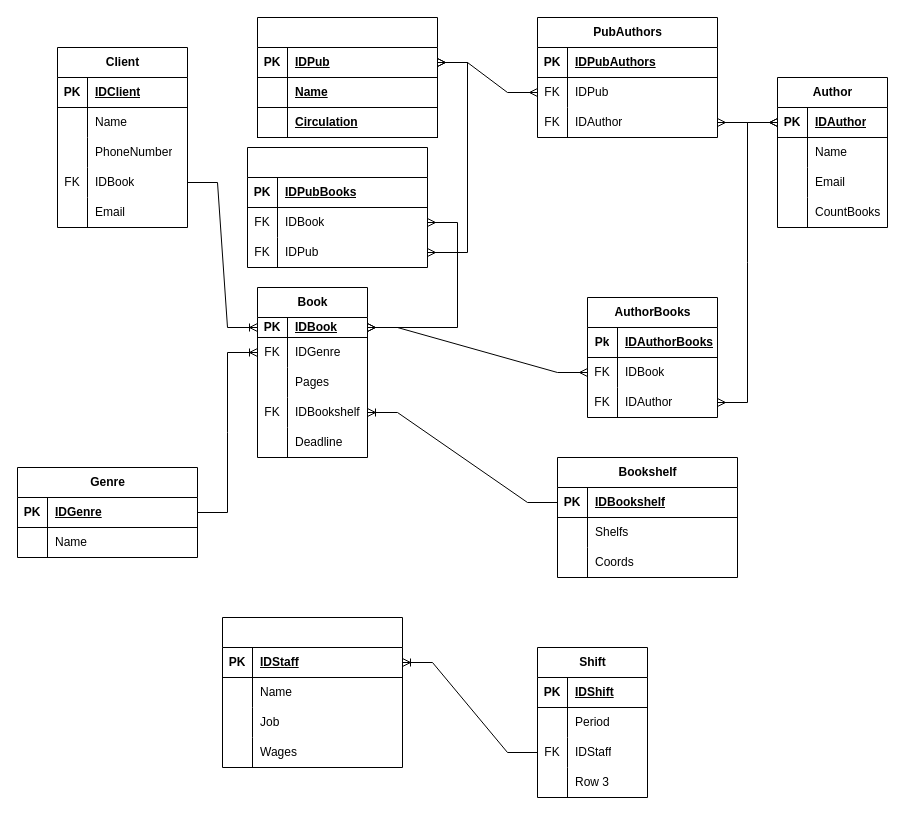
The diagram is 905 pixels wide and 815 high, and some of its shapes have lost their labels. The shapes that lost their labels are listed below. From the top down, each one's box as (x1, y1, x2, y2) in pixels, then its label:
(256, 16, 438, 138): Publishing
(246, 146, 428, 268): PublishingBooks
(222, 616, 402, 768): Table
